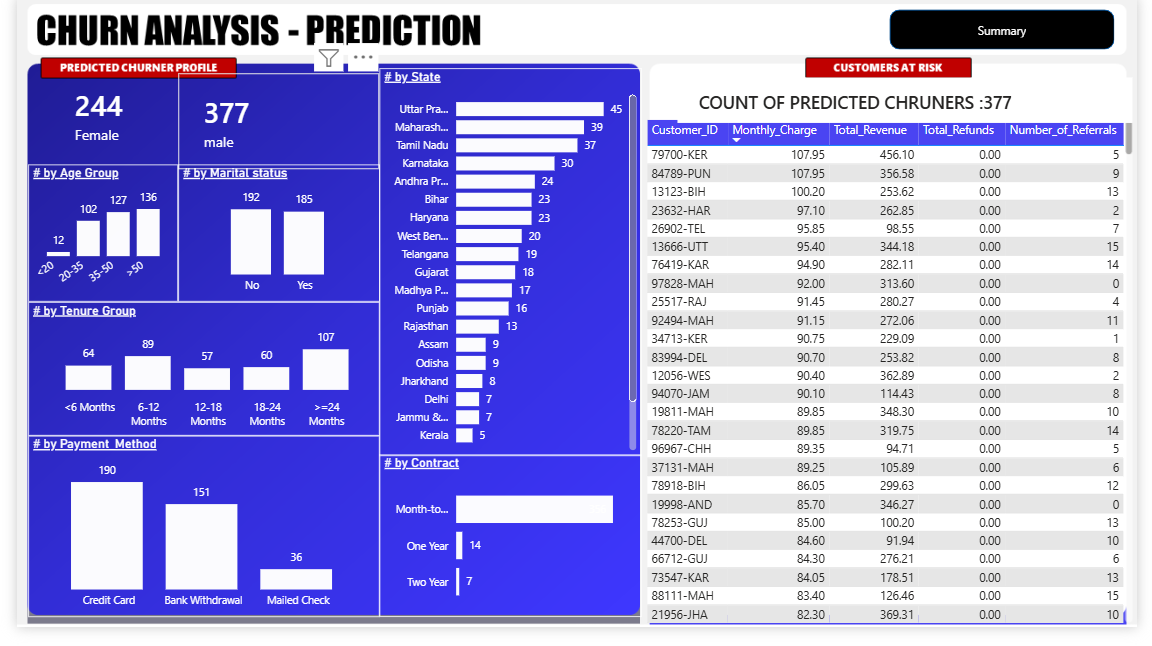

What the dashboard file says about the page in this screenshot:
{"tool":"powerbi","page":{"name":"Churn_ Prediction","canvas":[1280,720],"ordinal":2},"visuals":[{"type":"tableEx","fields":{"Values":["Predictions.Customer_ID","Predictions.Monthly_Charge","Predictions.Total_Revenue","Predictions.Total_Refunds","Predictions.Number_of_Referrals"]},"box":[714.3,135.7,565.7,584.3],"z":0},{"type":"cardVisual","fields":{"Data":["tbl_Measures.Title Predicted Churner"]},"box":[750,87.1,530,62.9],"z":1000},{"type":"cardVisual","fields":{"Data":["tbl_Measures.Count Predicted Churner"]},"box":[37.1,87.1,180,95.7],"z":2000},{"type":"cardVisual","fields":{"Data":["tbl_Measures.Count Predicted Churner"]},"box":[184.3,87.1,230,110],"z":3000},{"type":"clusteredColumnChart","fields":{"Category":["mapping_AgeGrp.Age Group"],"Y":["CountNonNull(Predictions.Customer_ID)"]},"box":[12.9,191.4,171.4,157.1],"z":4000},{"type":"clusteredColumnChart","fields":{"Category":["Predictions.Married"],"Y":["CountNonNull(Predictions.Customer_ID)"]},"box":[184.3,191.4,230,157.1],"z":5000},{"type":"clusteredColumnChart","fields":{"Y":["CountNonNull(Predictions.Customer_ID)"],"Category":["mapping_TenureGrp.Tenure Group"]},"box":[12.9,348.6,401.4,152.9],"z":6000},{"type":"clusteredColumnChart","fields":{"Y":["CountNonNull(Predictions.Customer_ID)"],"Category":["Predictions.Payment_Method"]},"box":[12.9,501.4,401.4,207.1],"z":7000},{"type":"clusteredBarChart","fields":{"Category":["Predictions.Contract"],"Y":["CountNonNull(Predictions.Customer_ID)"]},"box":[414.3,522.9,300,185.7],"z":8000},{"type":"clusteredBarChart","fields":{"Category":["Predictions.State"],"Y":["CountNonNull(Predictions.Customer_ID)"]},"box":[414.3,81.4,300,442.9],"z":9000},{"type":"shape","box":[997.1,14.3,257.1,45.7],"z":9001}]}

Visuals, with their boxes in screenshot pixels (x1, y1, x2, y2), scaled from the page's 1280x720 canvas onto the 1152x646 screenshot:
tableEx - Predictions.Customer_ID x Predictions.Monthly_Charge: [x1=643, y1=122, x2=1151, y2=645]
cardVisual - tbl_Measures.Title Predicted Churner: [x1=675, y1=78, x2=1151, y2=135]
cardVisual - tbl_Measures.Count Predicted Churner: [x1=33, y1=78, x2=195, y2=164]
cardVisual - tbl_Measures.Count Predicted Churner: [x1=166, y1=78, x2=373, y2=177]
clusteredColumnChart - mapping_AgeGrp.Age Group x CountNonNull(Predictions.Customer_ID): [x1=12, y1=172, x2=166, y2=313]
clusteredColumnChart - Predictions.Married x CountNonNull(Predictions.Customer_ID): [x1=166, y1=172, x2=373, y2=313]
clusteredColumnChart - CountNonNull(Predictions.Customer_ID) x mapping_TenureGrp.Tenure Group: [x1=12, y1=313, x2=373, y2=450]
clusteredColumnChart - CountNonNull(Predictions.Customer_ID) x Predictions.Payment_Method: [x1=12, y1=450, x2=373, y2=636]
clusteredBarChart - Predictions.Contract x CountNonNull(Predictions.Customer_ID): [x1=373, y1=469, x2=643, y2=636]
clusteredBarChart - Predictions.State x CountNonNull(Predictions.Customer_ID): [x1=373, y1=73, x2=643, y2=470]
shape: [x1=897, y1=13, x2=1129, y2=54]
